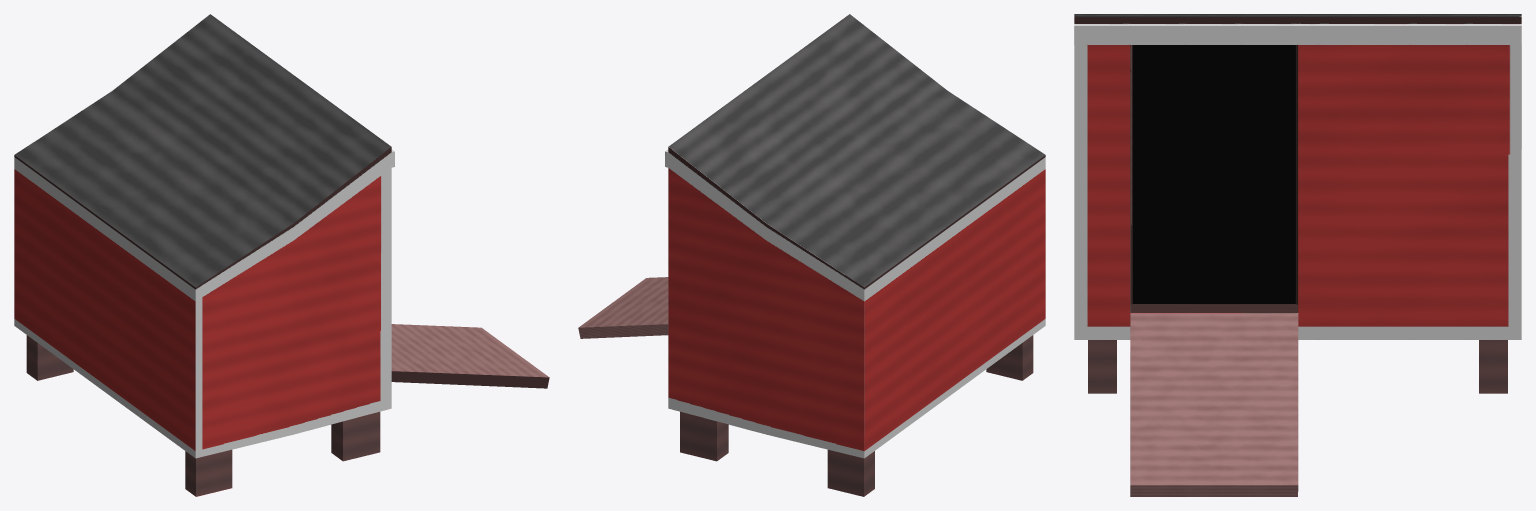
File: Coop 1.fbx
3 views of the same model, side by side, from view 1: azimuth 30°, elevation 25°; view 2: azimuth 150°, elevation 25°; view 3: azimuth 270°, elevation 25° (orthographic). The views are drawn at different scales.
Parts seen in each view (by area): view 1: Coop 1 EXP; view 2: Coop 1 EXP; view 3: Coop 1 EXP.
Part boxes in pixels (bbox=[...]): Coop 1 EXP: bbox=[14, 14, 549, 496]; Coop 1 EXP: bbox=[578, 14, 1045, 496]; Coop 1 EXP: bbox=[1074, 14, 1521, 496].
Size of the model in its own units: 231 by 180 by 192.
1 material, 1 textured.
